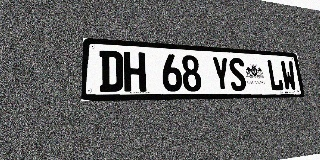6: (161, 54, 183, 92)
8: (181, 55, 202, 91)
D: (99, 50, 123, 92)
H: (123, 52, 146, 92)
L: (266, 60, 284, 91)
S: (228, 57, 247, 91)
W: (280, 60, 297, 91)
Y: (211, 56, 231, 91)
